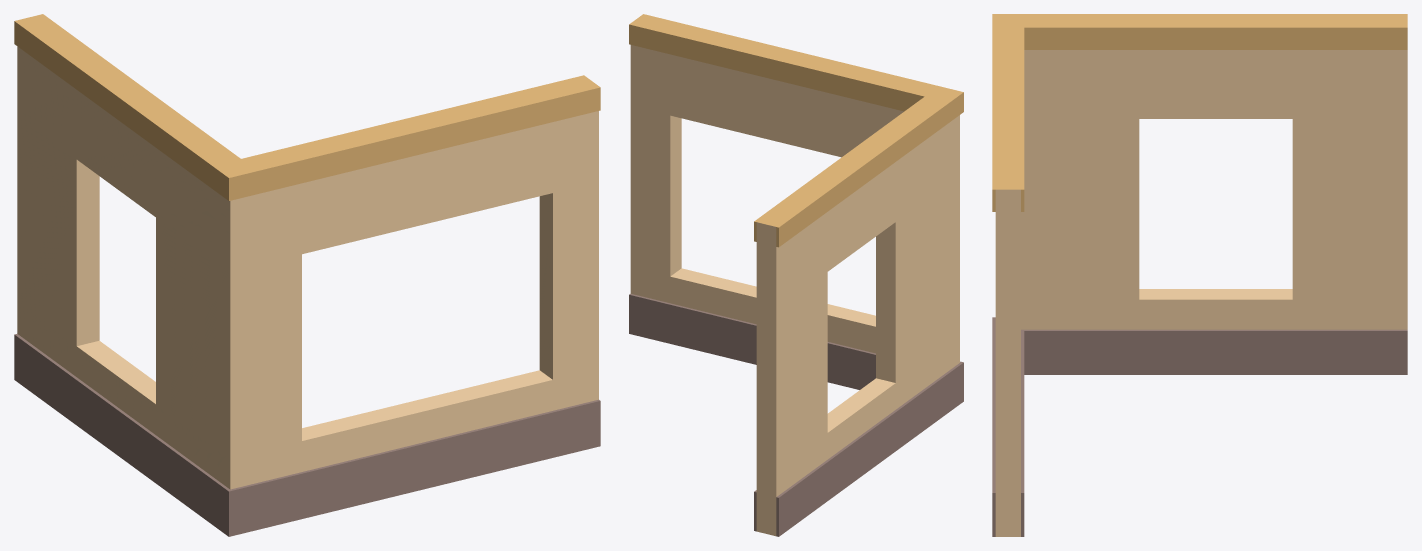
Rendered from Wall05-04.fbx.
3 renders of one model, left to right at view 1: azimuth 30°, elevation 25°; view 2: azimuth 150°, elevation 25°; view 3: azimuth 270°, elevation 25°, orthographic. The views are drawn at different scales.
Visible parts, largest first — view 1: Wall05-04; view 2: Wall05-04; view 3: Wall05-04.
Boxes of the visible parts, x1,y1,x2,y2 form: Wall05-04: [14, 14, 600, 536]; Wall05-04: [629, 14, 963, 536]; Wall05-04: [992, 14, 1407, 536].
Bounding box in the file's own units: 3.25 × 3.25 × 3.
